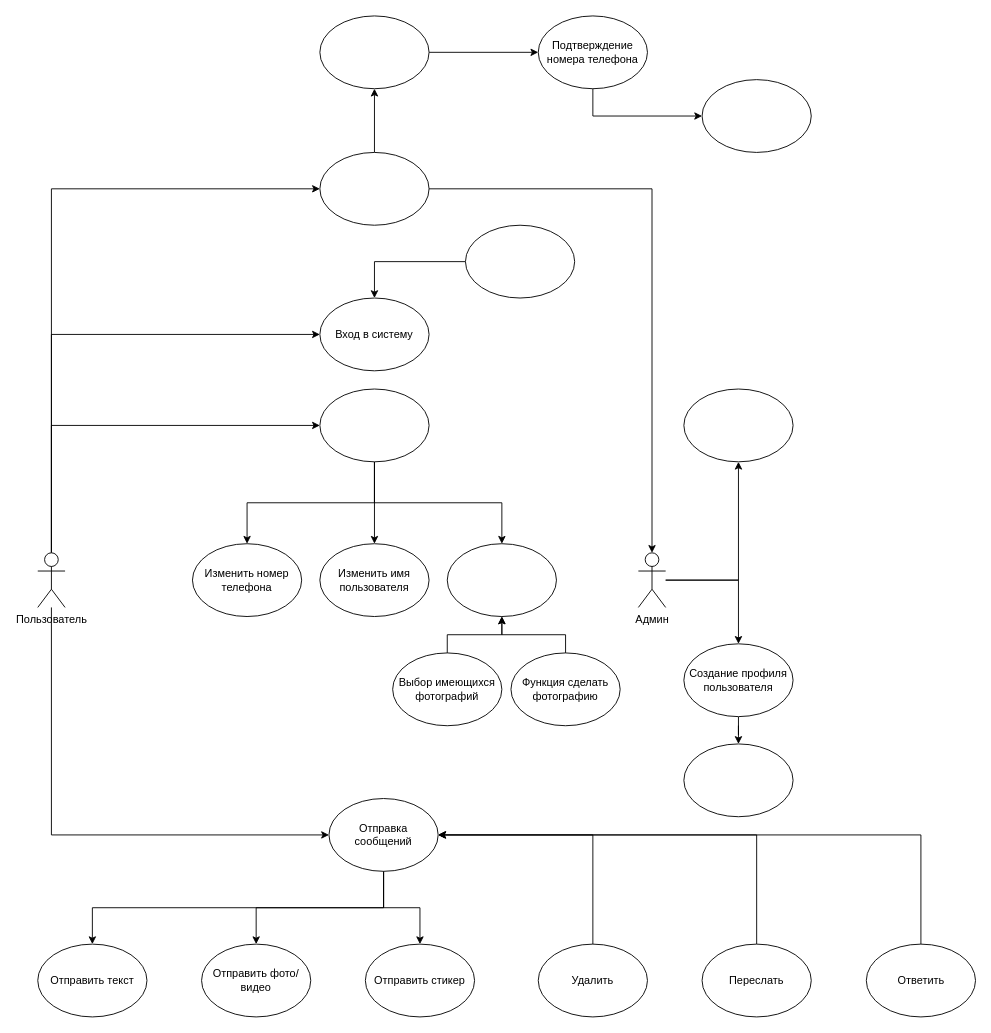
This 991x1033 diagram has some shape labels left out. The shapes that lost their labels are listed below. From the top down, each one's centre as x and y in pixels, then its label:
(374,52): Ввод номера телефона
(756,115): Ввод кода подтверждения
(374,188): Регистрация
(520,261): Выход из системы
(374,425): Редактировать фото профиля
(738,425): Отправка кода подтверждения
(501,580): Установка фото профиля
(738,780): Удаление профиля пользователя
